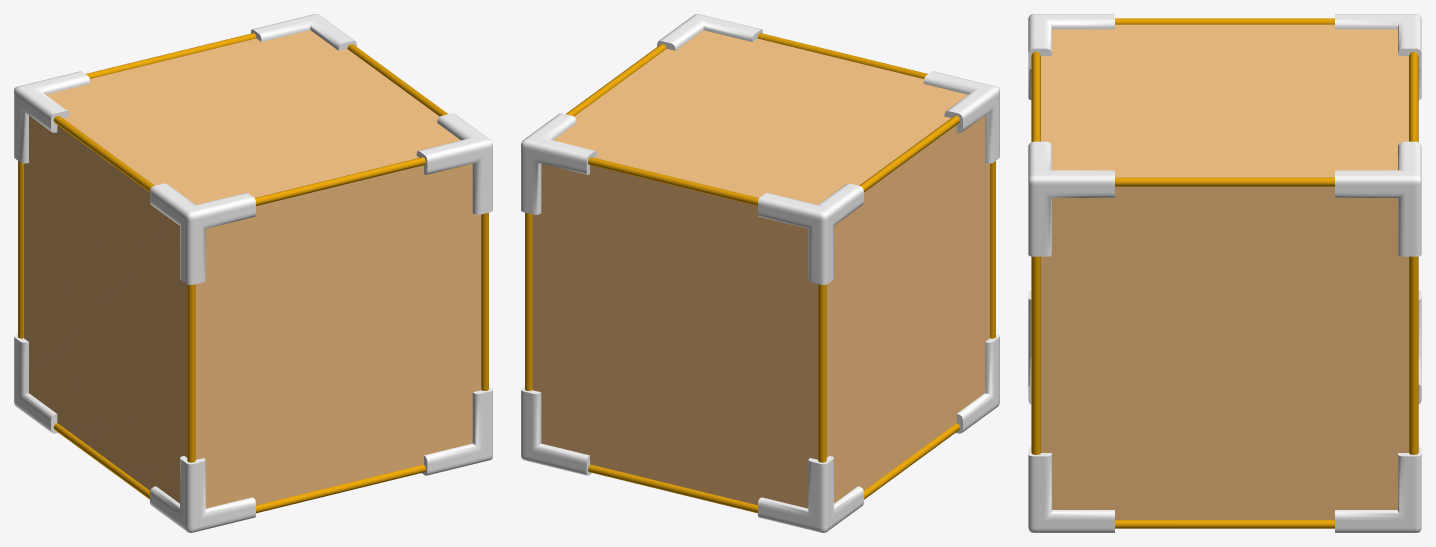
Rendered from toggleBlockOnMVP_Model.fbx.
The picture shows the model from 3 angles, left to right: view 1: azimuth 30°, elevation 25°; view 2: azimuth 150°, elevation 25°; view 3: azimuth 270°, elevation 25°; orthographic projection. The views are drawn at different scales.
Visible parts, largest first — view 1: innerField2; view 2: innerField2; view 3: innerField2.
Boxes of the visible parts, left/top/right/bottom form: innerField2: left=14, top=14, right=492, bottom=532; innerField2: left=521, top=14, right=999, bottom=532; innerField2: left=1028, top=14, right=1421, bottom=532.
Bounding box in the file's own units: 2.5 × 2.5 × 2.5.
